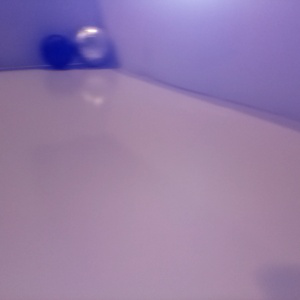alive_ball: (72, 25, 110, 64)
dead_ball: (39, 33, 75, 67)
